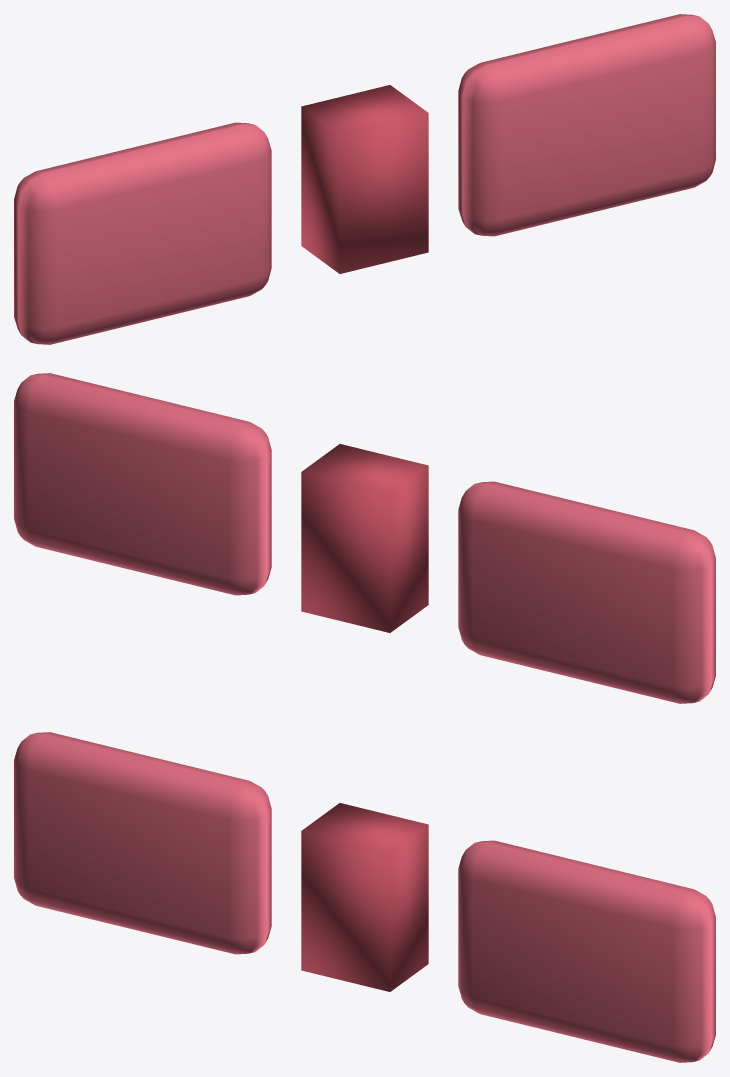
File: bow_tie.glb
3 renders of one model, top to bottom at view 1: azimuth 30°, elevation 25°; view 2: azimuth 150°, elevation 25°; view 3: azimuth 330°, elevation 25°, orthographic.
Parts seen in each view (by area): view 1: Cube, Cube.001, Cube.002; view 2: Cube, Cube.001, Cube.002; view 3: Cube, Cube.001, Cube.002.
Part boxes in pixels (x1,y1,x2,y2): Cube: (14,122,271,344); Cube.001: (458,14,715,236); Cube.002: (301,85,428,273); Cube: (458,481,715,703); Cube.001: (14,373,271,595); Cube.002: (301,444,428,632); Cube: (14,732,271,954); Cube.001: (458,840,715,1062); Cube.002: (301,803,428,991).
Bounding box in the file's own units: 0.5 × 0.117 × 0.048.
